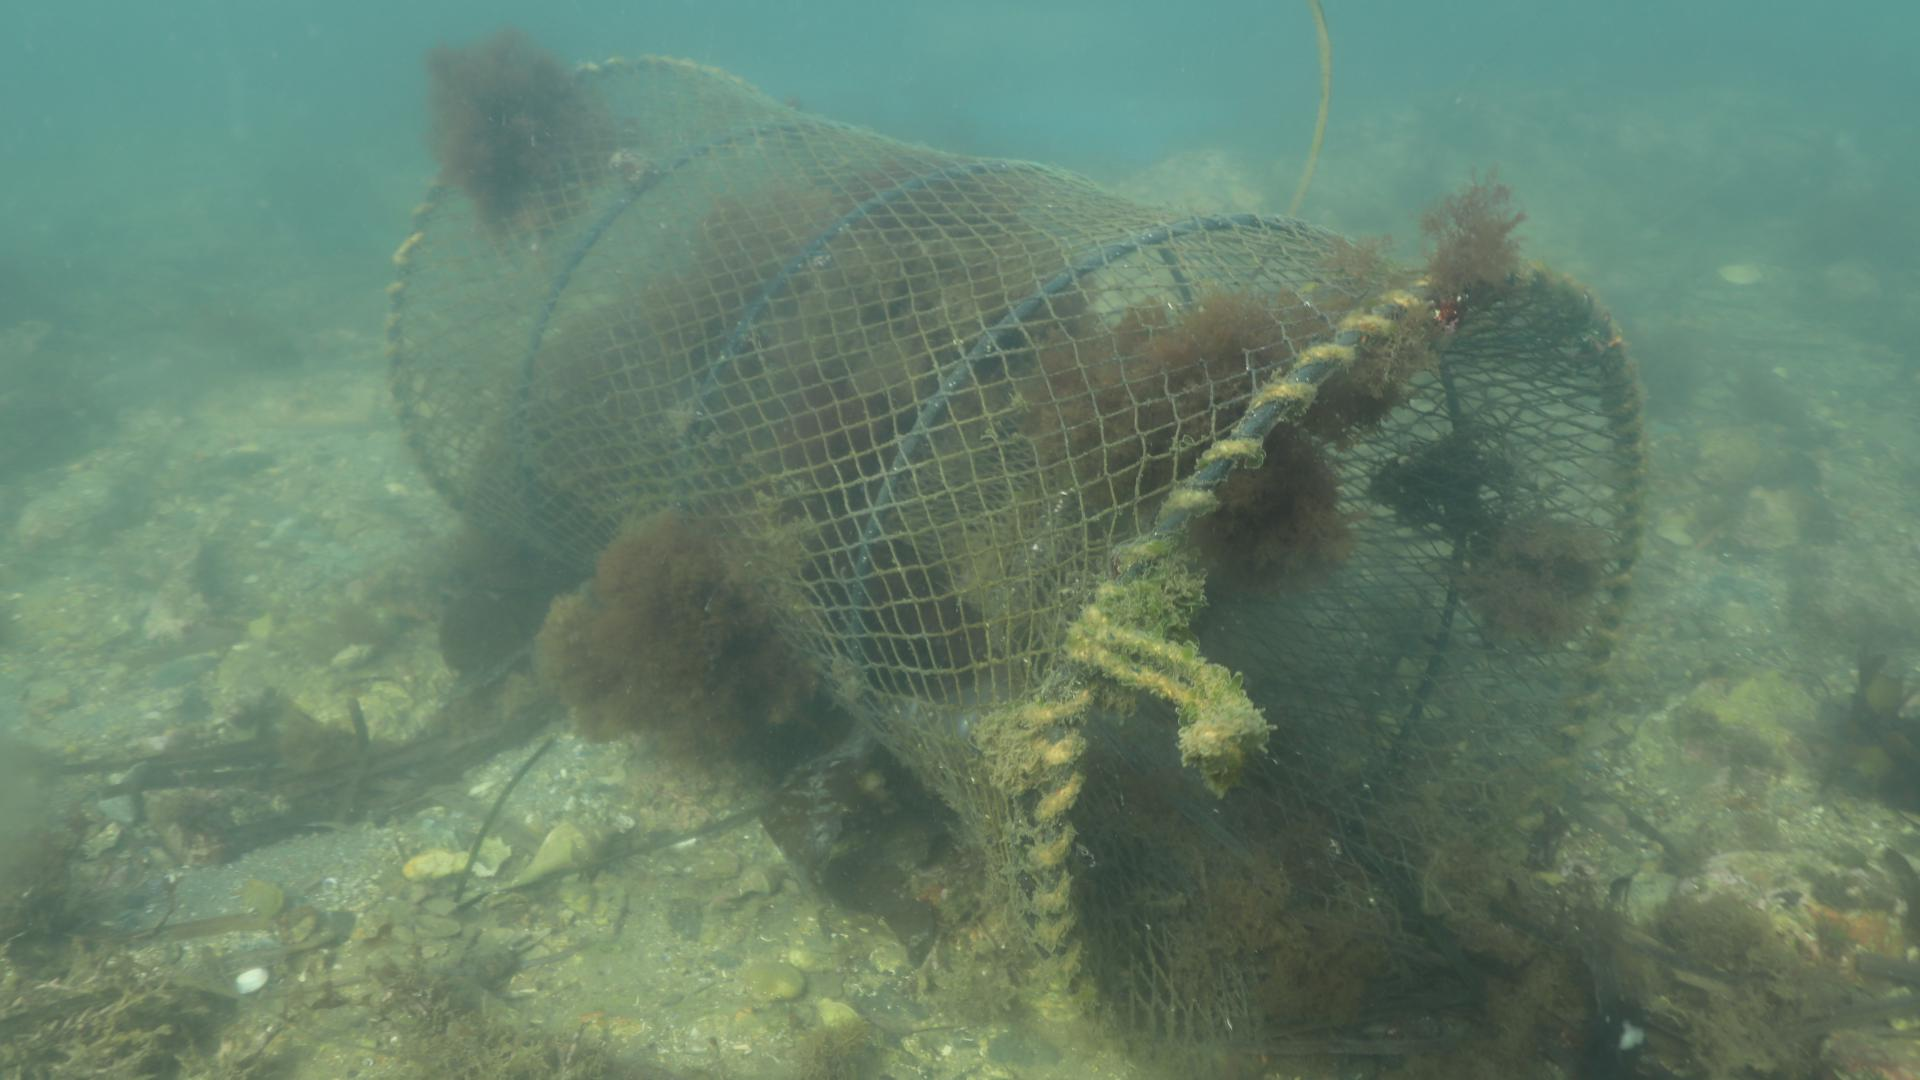spring fish trap: (380, 53, 1650, 1080)
